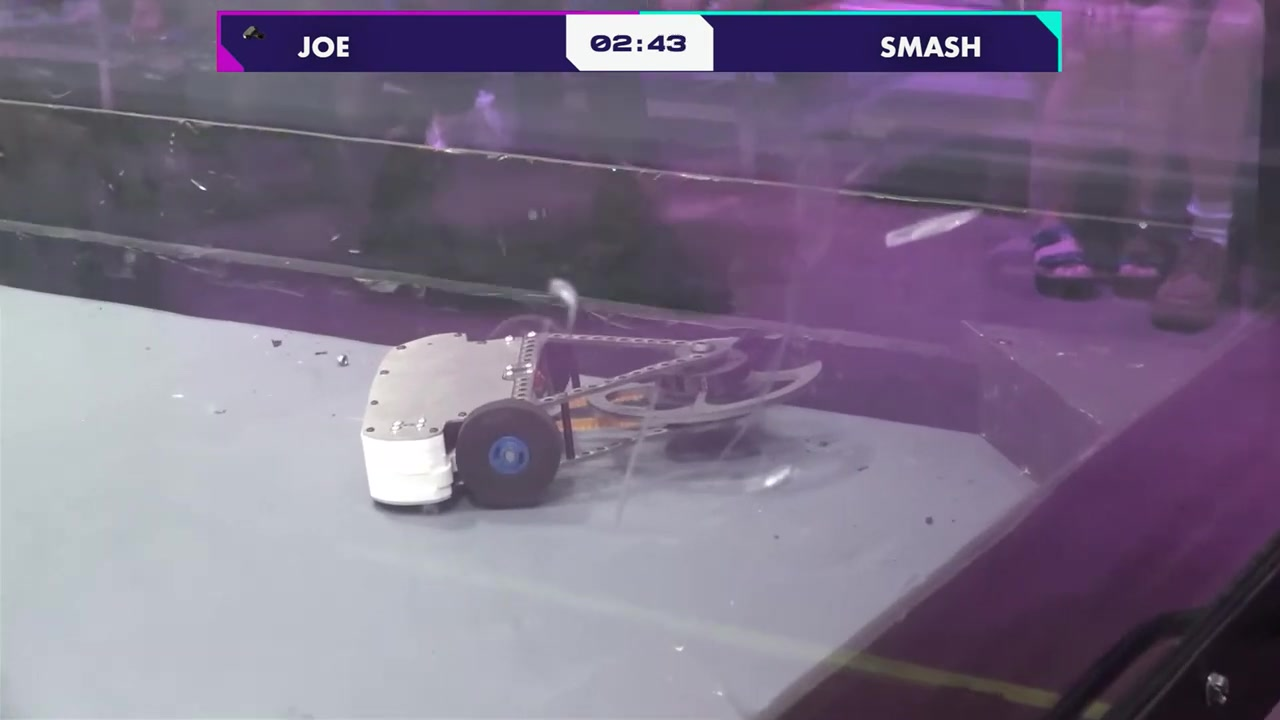combatbot: (360, 315, 821, 517)
